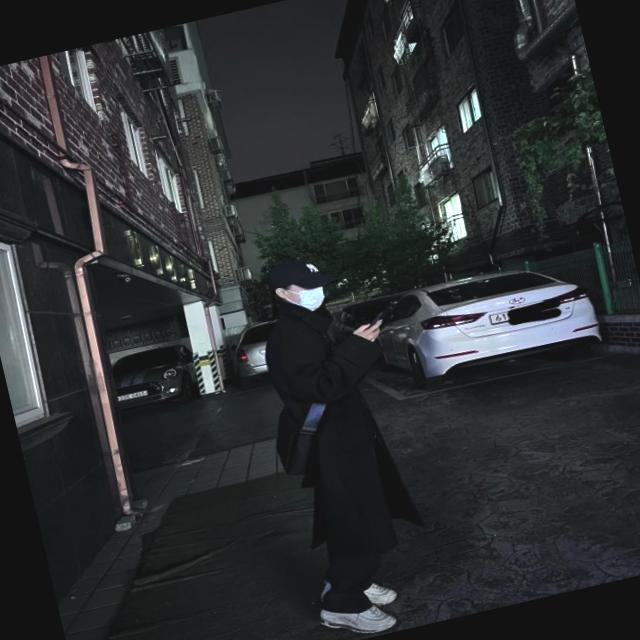coat: (254, 290, 429, 566)
